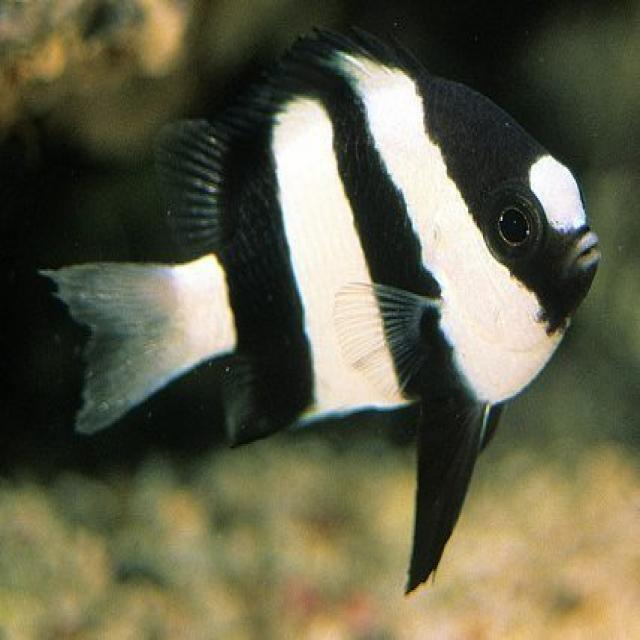Three_striped DasmselFish: (50, 29, 603, 587)
